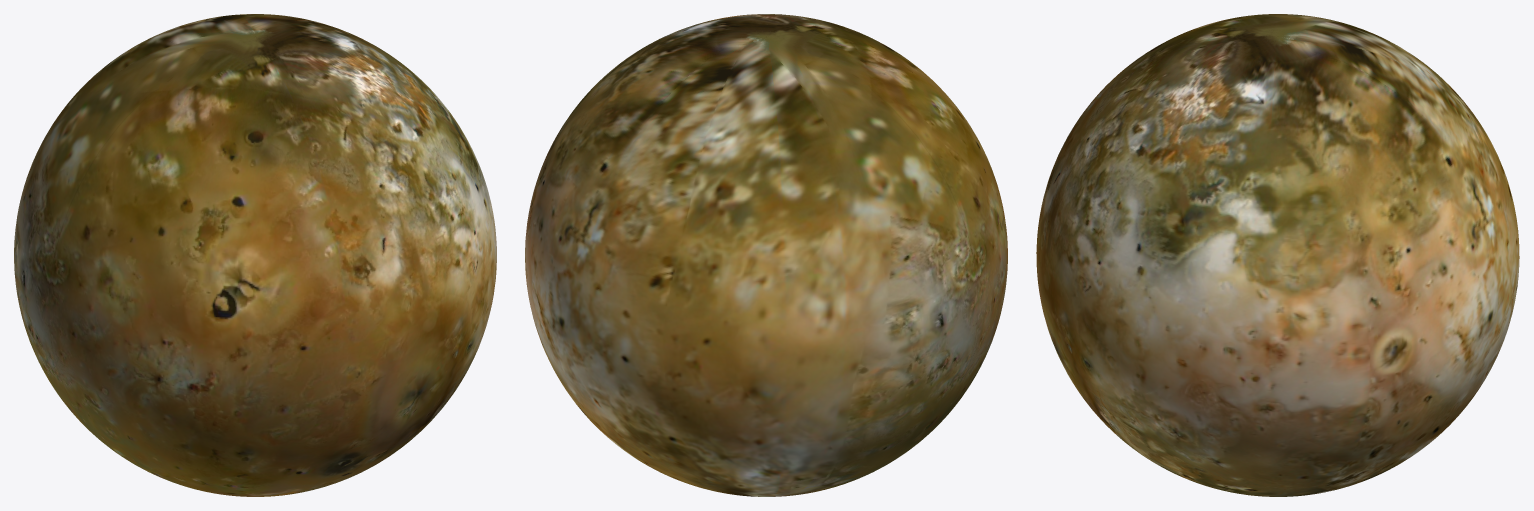
Rendered from Io_Medium.fbx.
The picture shows the model from 3 angles, left to right: view 1: azimuth 30°, elevation 25°; view 2: azimuth 150°, elevation 25°; view 3: azimuth 270°, elevation 25°; orthographic projection.
Parts seen in each view (by area): view 1: Io_Medium; view 2: Io_Medium; view 3: Io_Medium.
Part boxes in pixels (x1,y1,x2,y2): Io_Medium: (14,14,496,496); Io_Medium: (525,14,1007,496); Io_Medium: (1036,14,1519,496).
Bounding box in the file's own units: 200 × 200 × 200.
1 material, 1 textured.
